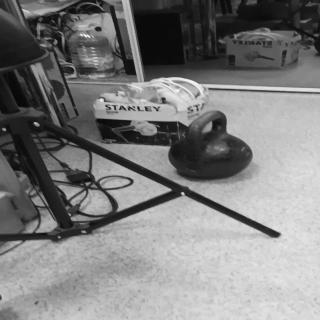kettlebell: (171, 111, 255, 181)
